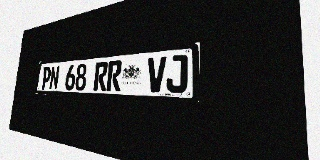6: (64, 64, 77, 90)
8: (74, 63, 88, 91)
J: (166, 54, 188, 93)
N: (49, 66, 60, 90)
P: (41, 66, 51, 90)
R: (106, 60, 122, 91), (93, 61, 108, 91)
V: (146, 56, 167, 93)
